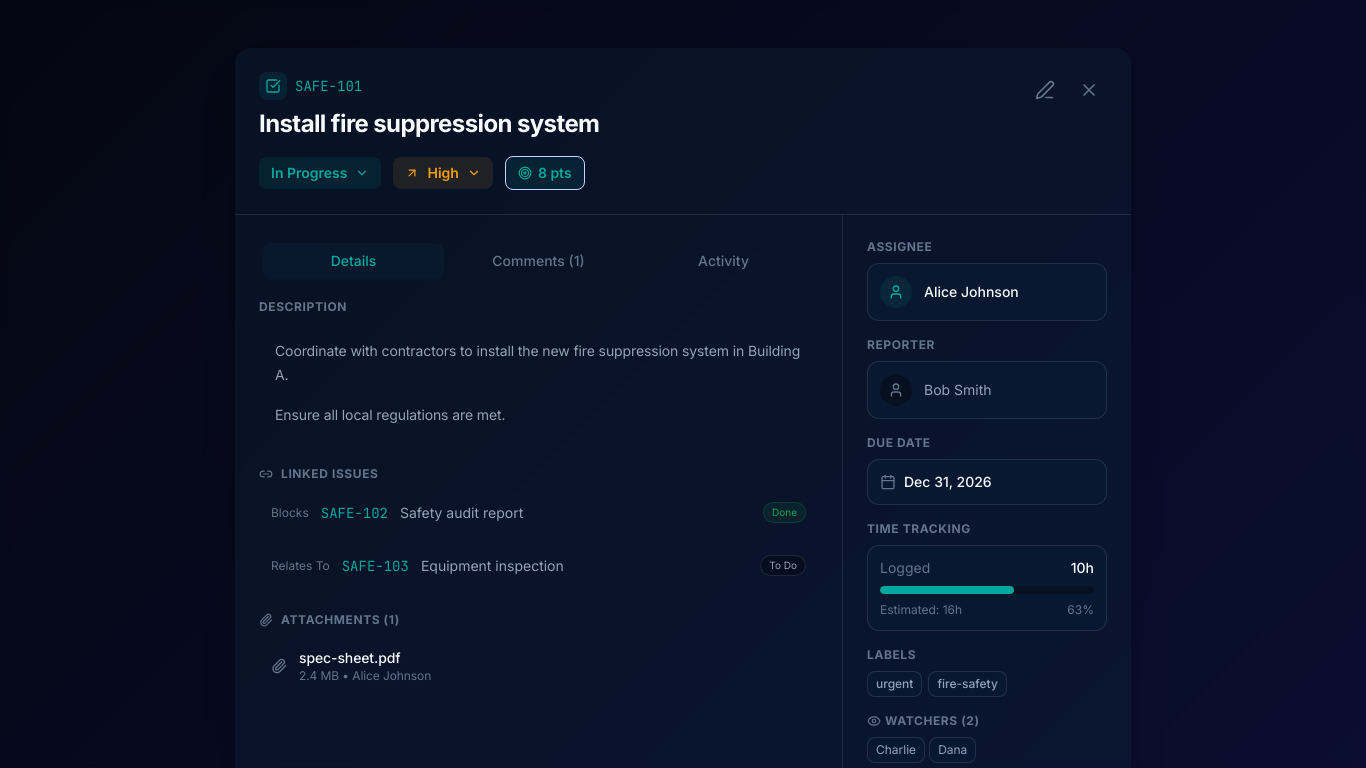
it: TaskDetailModal — tab navigation › switches to Comments tab when clicked
Click the button "Comments (1)".
click(538, 261)  # box [448,243,629,279]
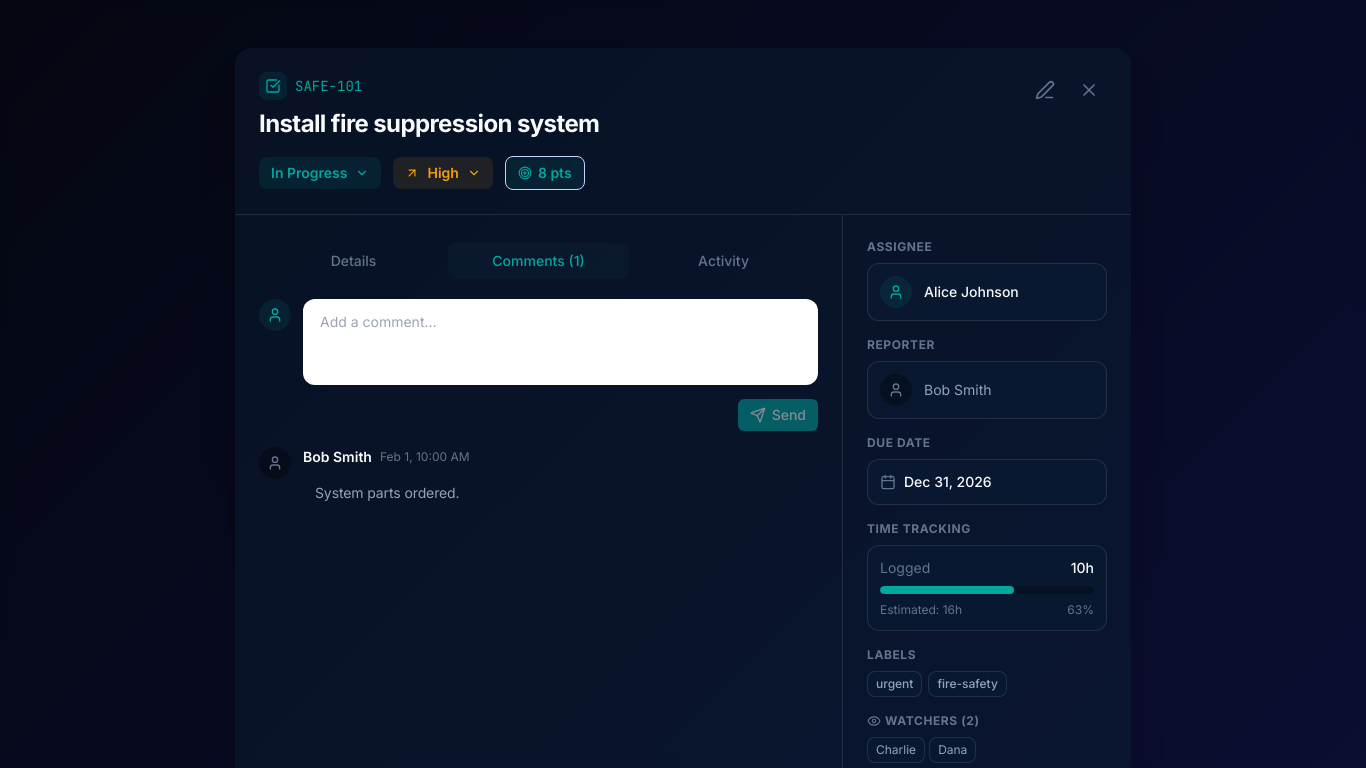
Expected: the text box with placeholder "Add a comment..." is shown, [303,299,818,385]
